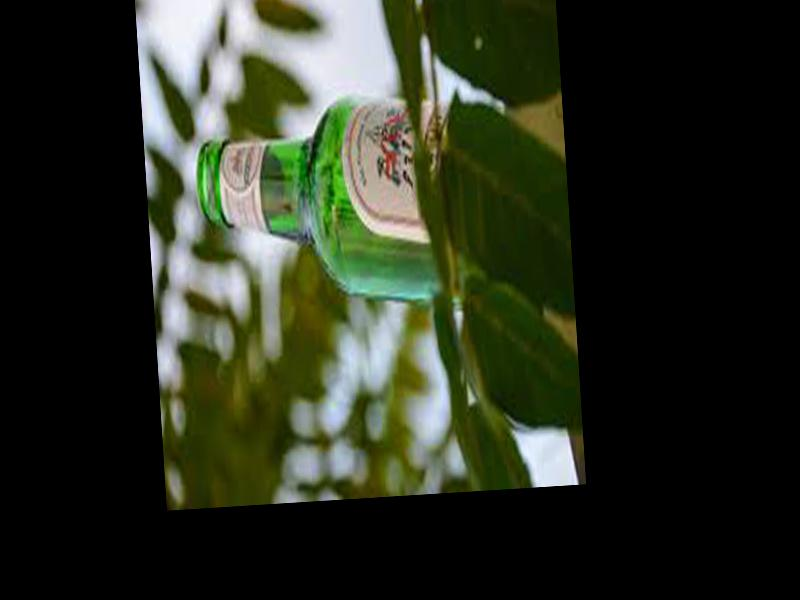Beer: (192, 93, 465, 311)
